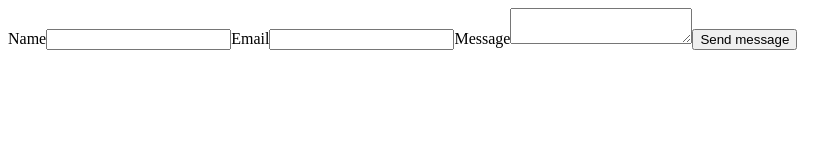
Test: ContactForm › submits once with an idempotency key and shows confirmation
In the field labelled "Name": (139, 40) [46,29,231,50], type "Ada"
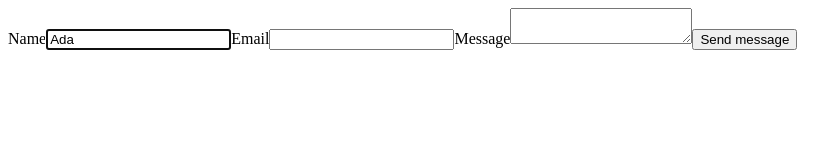
In the field labelled "Email": (362, 40) [269,29,454,50], type "ada@example.com"
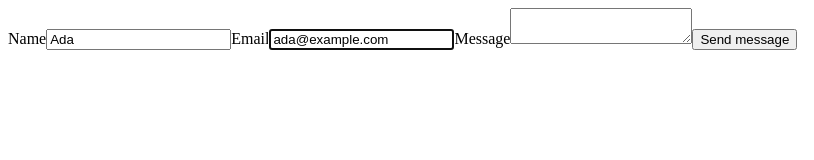
In the text box labelled "Message": (601, 26) [510,8,692,44], type "Hello"
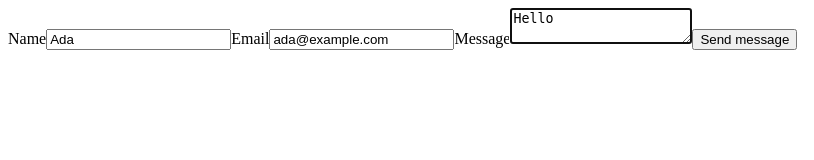
Click the button "Send message": click(745, 40) [692,29,797,50]
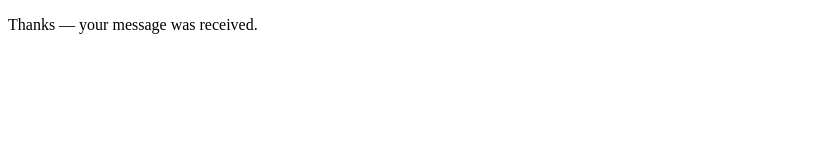
Check: the message shows "received", box [8,16,258,33]
